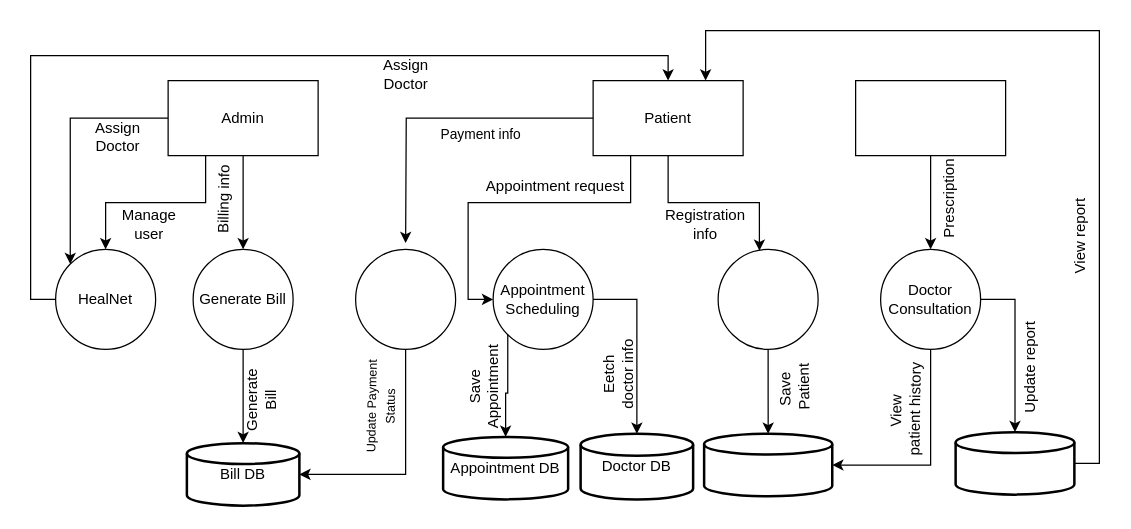
This 1131x529 diagram has some shape labels left out. Here are the shapes that lost their labels. From the top down, the box of each, then its label:
(854, 79, 1006, 156): Doctor
(354, 248, 456, 349): Payment Handling
(717, 248, 818, 349): Registration
(702, 432, 833, 497): Patient DB
(954, 430, 1075, 495): Report DB
